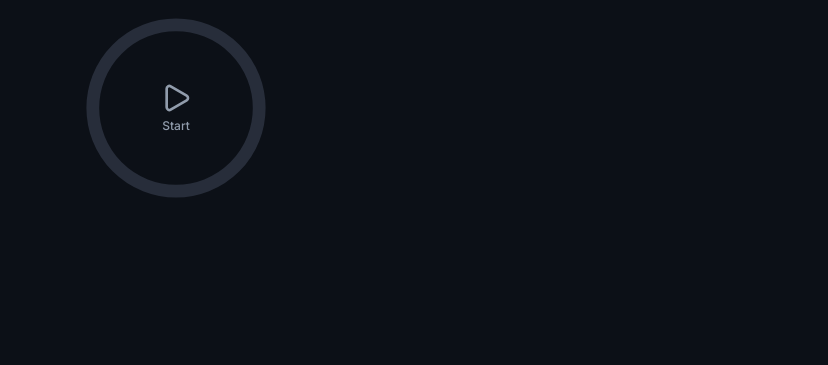
B332 — guided timer never advances the counter unattended › advances exactly one set when the athlete taps, never two
Click the button "Start" at [176, 108], box [160,82,192,134]
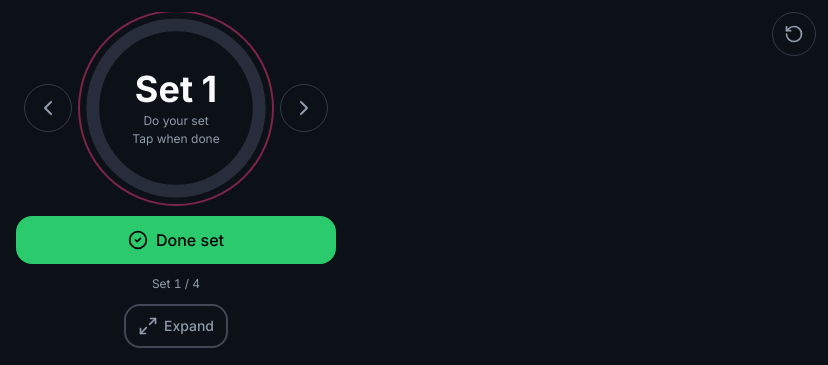
Click the button "Done set" at [176, 240], box [16,216,336,264]
Wait 1000 ms
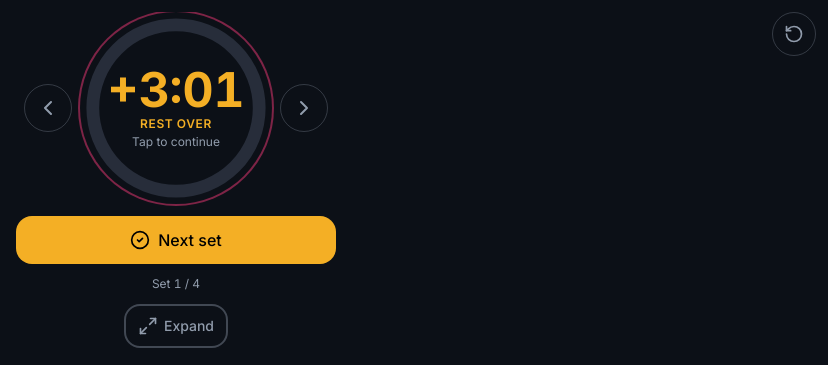
Click the button with aria-label "next set" at [176, 108], box [80,12,272,204]
Wait 2000 ms
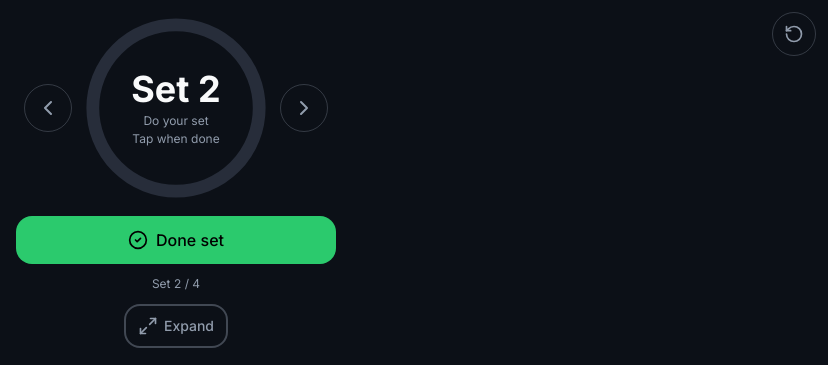
Expected: the text "Set 2 / 4" is shown, [152,276,200,292]
